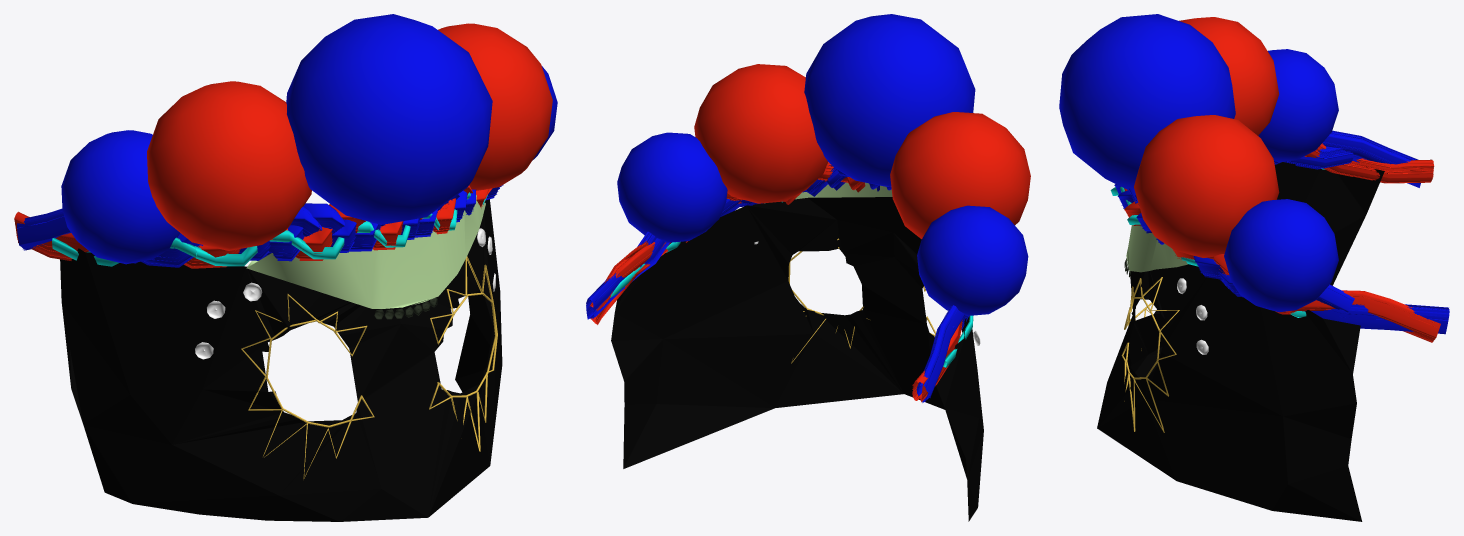
Rendered from Pompom.gltf.
3 views of the same model, side by side, from view 1: azimuth 30°, elevation 25°; view 2: azimuth 150°, elevation 25°; view 3: azimuth 270°, elevation 25° (orthographic). The views are drawn at different scales.
Visible parts, largest first — view 1: Plane.003, Sphere.001, Sphere.004, Sphere.003, Plane, Plane.009, Plane.010, Plane.011, Plane.008, Plane.007, Plane.005; view 2: Plane.003, Sphere.004, Sphere.001, Sphere.003, Plane.010, Plane.009, Plane.008, Plane, Plane.011; view 3: Plane.003, Sphere.004, Sphere.001, Sphere.003, Plane.010, Plane.008, Plane.009, Plane, Plane.005.
Boxes of the visible parts, x1=… form: Plane.003: x1=60, y1=199, x2=502, y2=521; Sphere.001: x1=286, y1=14, x2=492, y2=224; Sphere.004: x1=147, y1=23, x2=552, y2=250; Sphere.003: x1=61, y1=66, x2=557, y2=264; Plane: x1=246, y1=195, x2=485, y2=308; Plane.009: x1=17, y1=185, x2=503, y2=267; Plane.010: x1=14, y1=185, x2=492, y2=268; Plane.011: x1=52, y1=192, x2=487, y2=266; Plane.008: x1=132, y1=187, x2=499, y2=263; Plane.007: x1=241, y1=294, x2=374, y2=479; Plane.005: x1=429, y1=256, x2=497, y2=451; Plane.003: x1=611, y1=197, x2=983, y2=521; Sphere.004: x1=694, y1=64, x2=1030, y2=239; Sphere.001: x1=804, y1=14, x2=975, y2=186; Sphere.003: x1=617, y1=132, x2=1028, y2=315; Plane.010: x1=589, y1=162, x2=962, y2=402; Plane.009: x1=637, y1=165, x2=965, y2=402; Plane.008: x1=586, y1=168, x2=968, y2=330; Plane: x1=795, y1=182, x2=892, y2=199; Plane.011: x1=610, y1=201, x2=973, y2=367; Plane.003: x1=1097, y1=162, x2=1384, y2=521; Sphere.004: x1=1134, y1=17, x2=1279, y2=257; Sphere.001: x1=1059, y1=14, x2=1235, y2=190; Sphere.003: x1=1224, y1=49, x2=1338, y2=312; Plane.010: x1=1124, y1=143, x2=1440, y2=342; Plane.008: x1=1114, y1=146, x2=1449, y2=334; Plane.009: x1=1117, y1=130, x2=1420, y2=312; Plane: x1=1126, y1=225, x2=1187, y2=272; Plane.005: x1=1121, y1=277, x2=1179, y2=432.
Size of the model in its own units: 1.2 by 1.18 by 0.9966.
